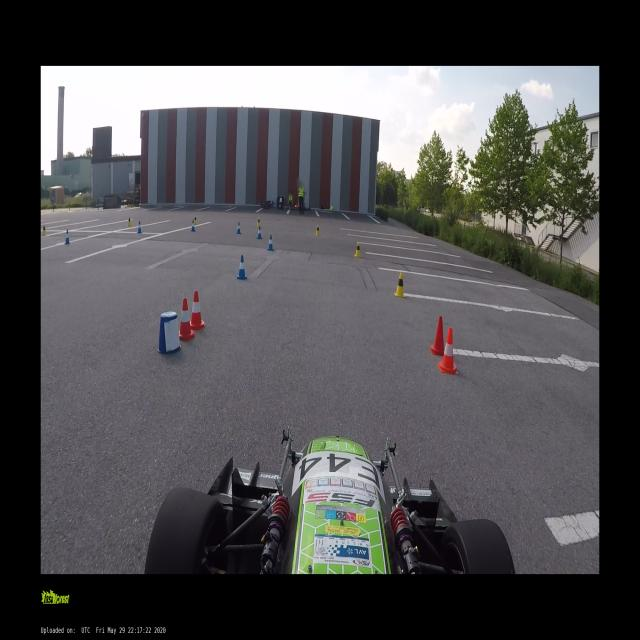blue_cone: (236, 255, 247, 280), (267, 235, 274, 251), (64, 229, 70, 245), (257, 226, 262, 239), (137, 222, 142, 234), (190, 220, 194, 232), (237, 222, 240, 234)
orange_cone: (438, 328, 457, 374), (175, 298, 194, 340), (187, 291, 206, 330), (430, 314, 445, 354)
yellow_cone: (394, 272, 406, 298), (354, 242, 362, 258), (314, 225, 321, 235), (42, 225, 46, 236), (127, 218, 131, 228), (256, 216, 260, 226), (193, 216, 197, 224)
